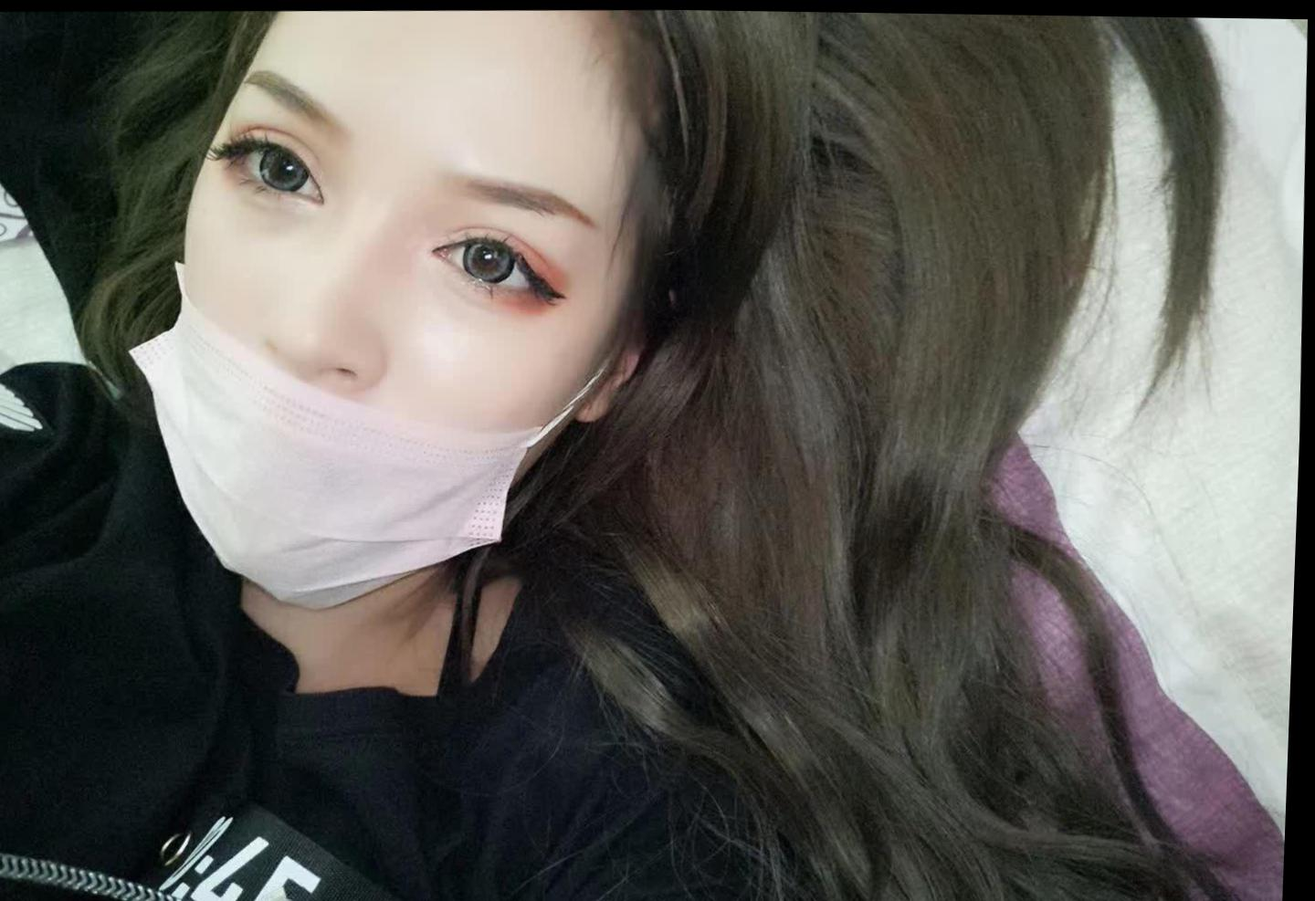WRONG: (164, 31, 655, 596)
